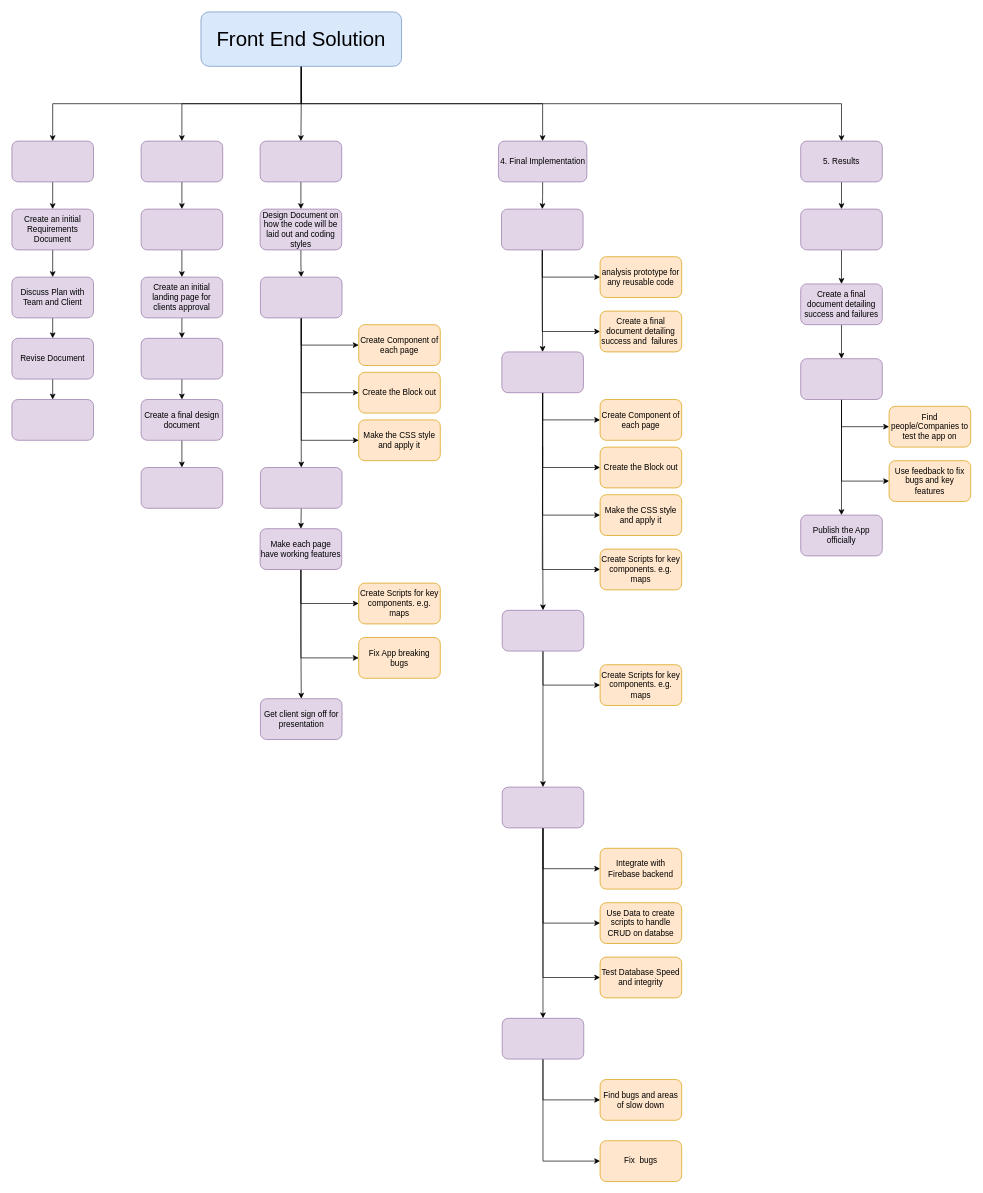
The diagram is 983 pixels wide and 1193 high, and some of its shapes have lost their labels. Each missing label, with the centre of its shape:
1. Planning: point 52,161
2. Design: point 181,161
3. Prototyping: point 300,161
App review: point 543,1038
Create an wireframe in figma and Get a colour scheme: point 181,229
Create Authentication pages: point 543,630
Create Dashbaord pages: point 542,372
Create Device Pages: point 543,807
Create the initial pages: point 301,297
Get client approval for extra features: point 301,487
Get client sign off on the final version of the APP: point 841,229
Get clients final approval before prototype: point 181,487
Get Final Approval: point 52,419
publish the App to testers: point 841,379
Revise and create other pages based off client notes: point 181,358
Use prototype as a base for development: point 542,229
